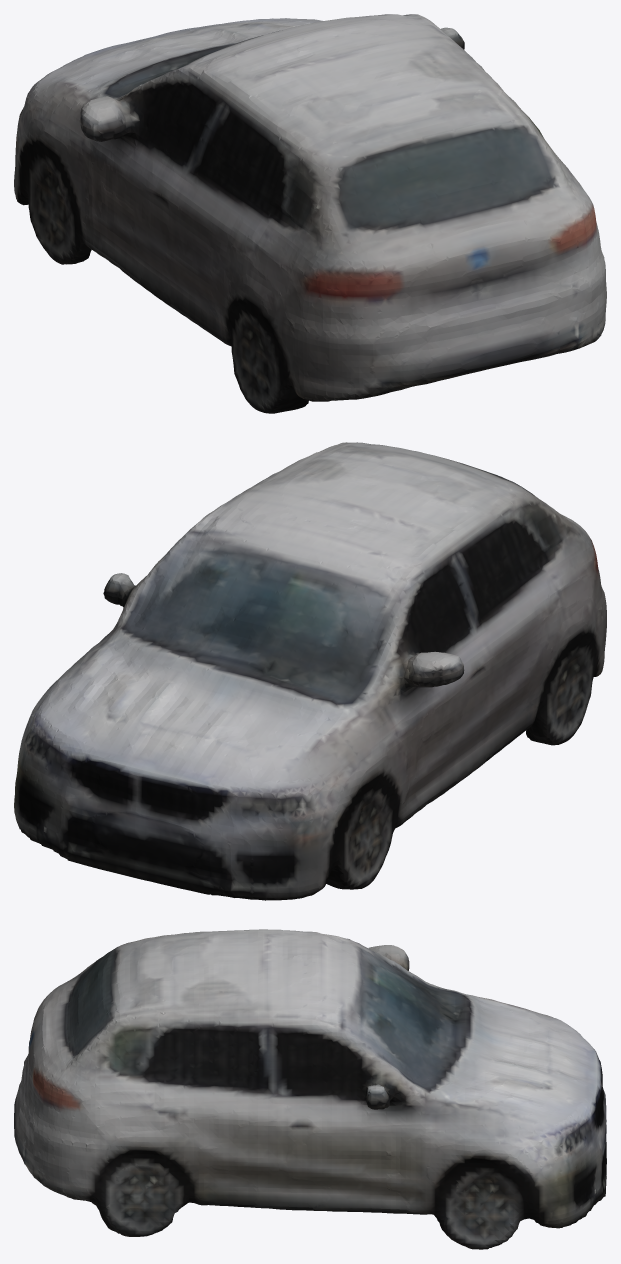
The model's file is instantmesh.obj.
The picture shows the model from 3 angles, top to bottom: view 1: azimuth 30°, elevation 25°; view 2: azimuth 150°, elevation 25°; view 3: azimuth 270°, elevation 25°; orthographic projection. The views are drawn at different scales.
Size of the model in its own units: 1.18 by 0.7965 by 1.97.
